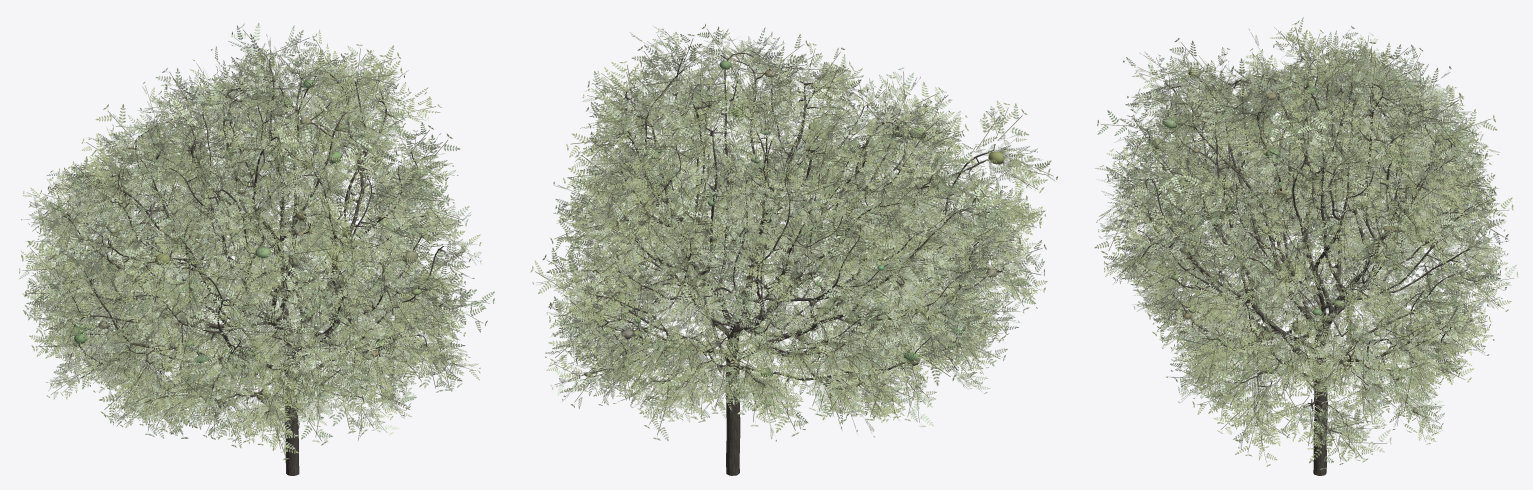
Rendered from tree_26_broadleaf.glb.
The picture shows the model from 3 angles, left to right: view 1: azimuth 30°, elevation 25°; view 2: azimuth 150°, elevation 25°; view 3: azimuth 270°, elevation 25°; orthographic projection. The views are drawn at different scales.
Visible parts, largest first — view 1: tree_26_broadleaf.leaves, tree_26_broadleaf.trunk_branches, tree_26_broadleaf.foliage_volume; view 2: tree_26_broadleaf.leaves, tree_26_broadleaf.trunk_branches, tree_26_broadleaf.foliage_volume; view 3: tree_26_broadleaf.leaves, tree_26_broadleaf.trunk_branches, tree_26_broadleaf.foliage_volume.
Part boxes in pixels (<box>): tree_26_broadleaf.leaves: <box>19,22,494,459</box>; tree_26_broadleaf.trunk_branches: <box>53,57,453,475</box>; tree_26_broadleaf.foliage_volume: <box>57,79,421,399</box>; tree_26_broadleaf.leaves: <box>530,24,1057,441</box>; tree_26_broadleaf.trunk_branches: <box>579,52,1004,475</box>; tree_26_broadleaf.foliage_volume: <box>584,60,1004,377</box>; tree_26_broadleaf.leaves: <box>1094,17,1518,469</box>; tree_26_broadleaf.trunk_branches: <box>1128,56,1476,475</box>; tree_26_broadleaf.foliage_volume: <box>1152,68,1433,413</box>.
Bounding box in the file's own units: 16.39 × 15.14 × 13.75.
Materials: 3 (2 with a texture image).
